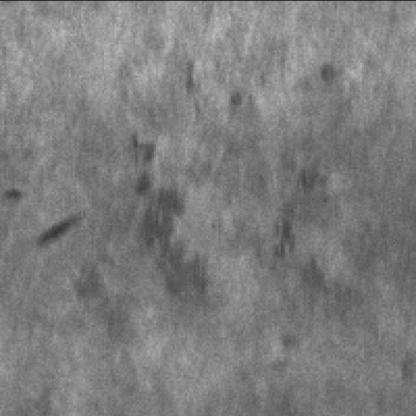rolled-in_scale: (129, 118, 245, 306), (270, 164, 337, 296)
